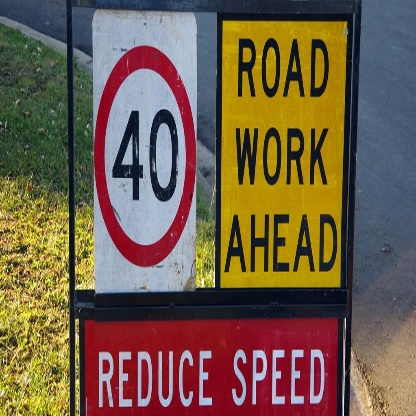limit2: (90, 43, 197, 269)
